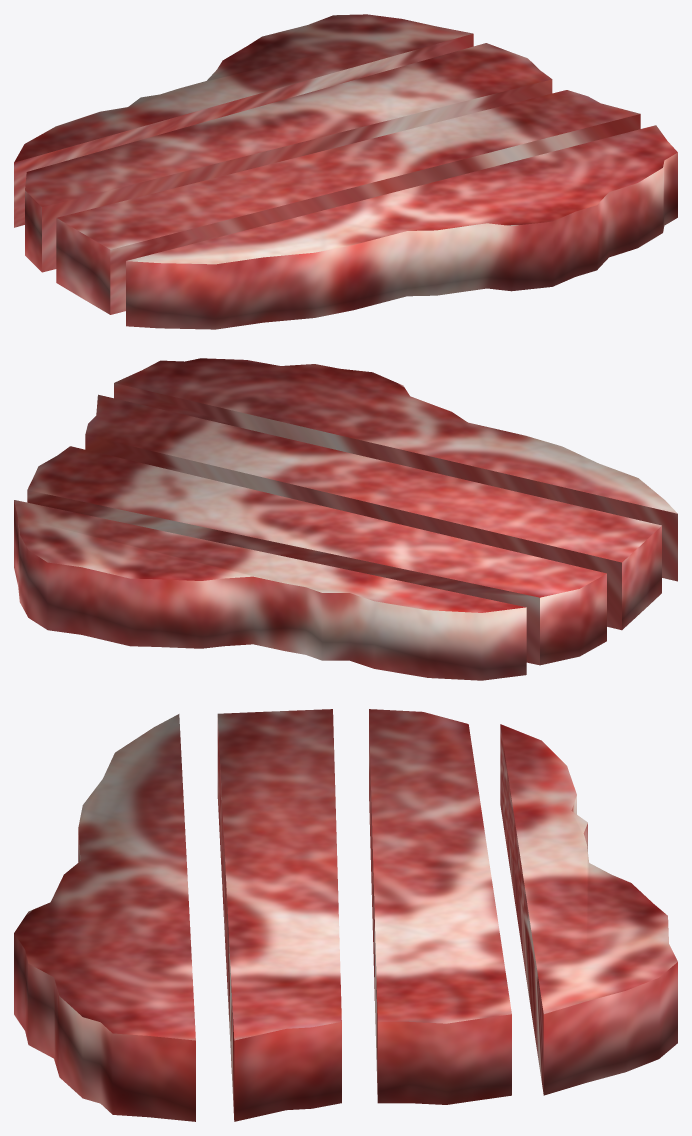
File: CarneCortada.fbx
3 views of the same model, one above another, from view 1: azimuth 30°, elevation 25°; view 2: azimuth 150°, elevation 25°; view 3: azimuth 270°, elevation 25° (orthographic). The views are drawn at different scales.
Visible parts, largest first — view 1: Meat; view 2: Meat; view 3: Meat.
Boxes of the visible parts, x1=… form: Meat: x1=14, y1=14, x2=677, y2=329; Meat: x1=14, y1=358, x2=677, y2=680; Meat: x1=14, y1=709, x2=677, y2=1121.
Bounding box in the file's own units: 468 × 53.6 × 396.
1 material, 1 textured.
